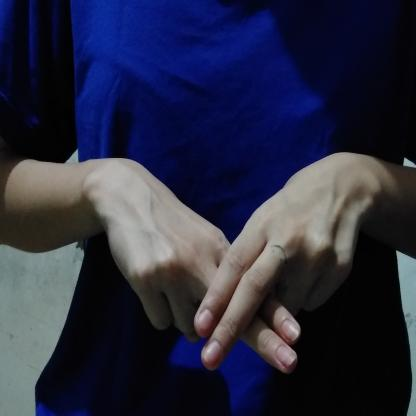father: (79, 144, 382, 379)
